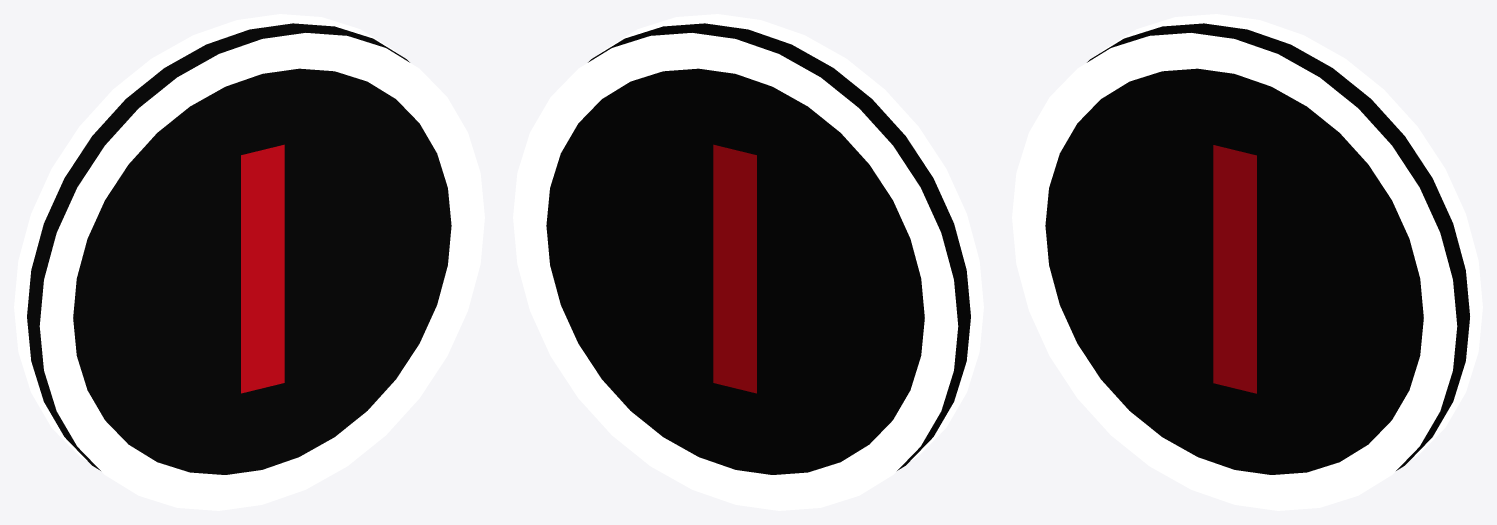
The picture shows the model from 3 angles, left to right: view 1: azimuth 30°, elevation 25°; view 2: azimuth 150°, elevation 25°; view 3: azimuth 330°, elevation 25°; orthographic projection.
Visible parts, largest first — view 1: Circle, Ring, 1, Ring.001; view 2: Circle, Ring.001, 1.001, Ring; view 3: Circle, Ring, 1, Ring.001.
Part boxes in pixels (x1,y1,x2,y2): Circle: (27, 23, 451, 474); Ring: (39, 33, 484, 510); 1: (241, 144, 284, 393); Ring.001: (14, 14, 397, 461); Circle: (546, 23, 970, 474); Ring.001: (513, 33, 958, 510); 1.001: (713, 144, 756, 393); Ring: (600, 14, 983, 461); Circle: (1045, 23, 1469, 474); Ring: (1012, 33, 1457, 510); 1: (1213, 145, 1256, 393); Ring.001: (1099, 14, 1482, 461).
Bounding box in the file's own units: 2 × 2 × 0.2.
